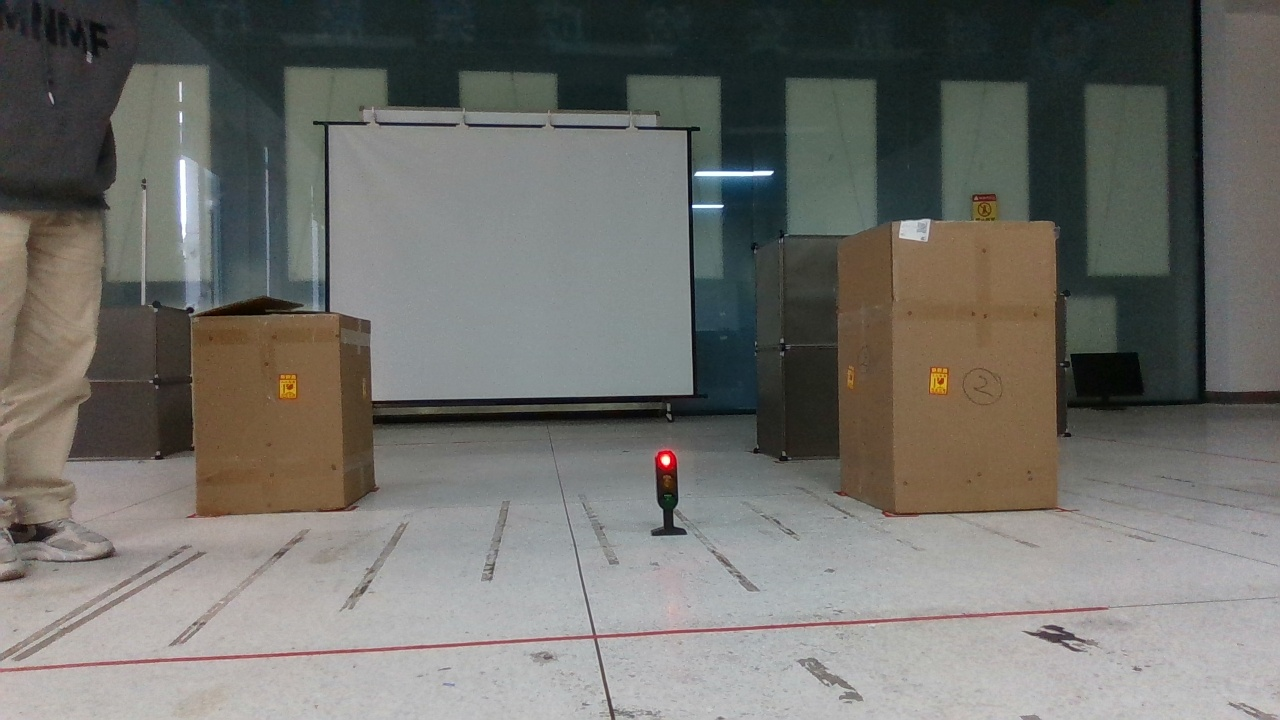red_light: (639, 444, 700, 542)
